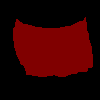mutande: (13, 16, 93, 77)
